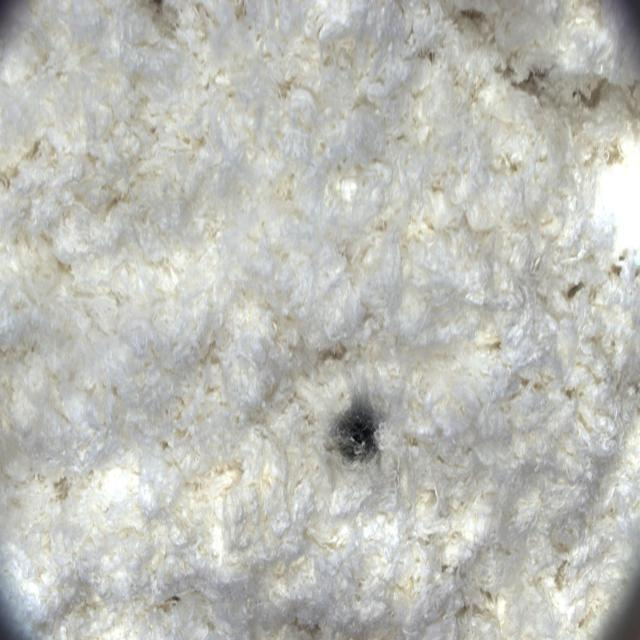dust: (312, 355, 414, 515)
